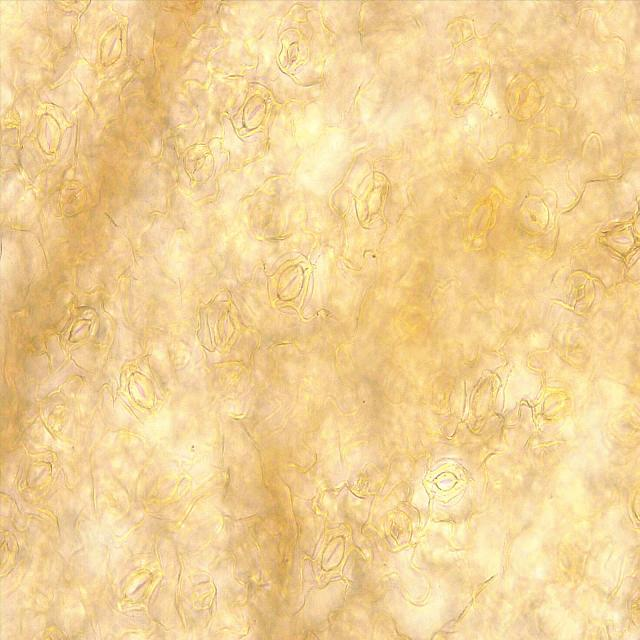Stomata: (23, 101, 72, 170), (109, 556, 162, 619), (89, 12, 134, 82), (456, 188, 503, 255), (229, 79, 277, 143), (266, 250, 314, 314), (443, 56, 490, 120), (463, 369, 506, 438), (16, 444, 64, 504), (120, 358, 166, 420), (311, 526, 356, 585), (142, 466, 192, 518), (354, 168, 393, 230), (421, 457, 468, 508), (206, 298, 245, 358), (530, 379, 574, 427), (60, 306, 101, 356), (504, 72, 542, 122), (274, 26, 311, 76), (251, 200, 286, 240), (380, 509, 412, 552), (564, 270, 595, 314), (182, 144, 215, 184), (520, 194, 550, 237), (58, 178, 88, 217), (0, 529, 19, 579)
